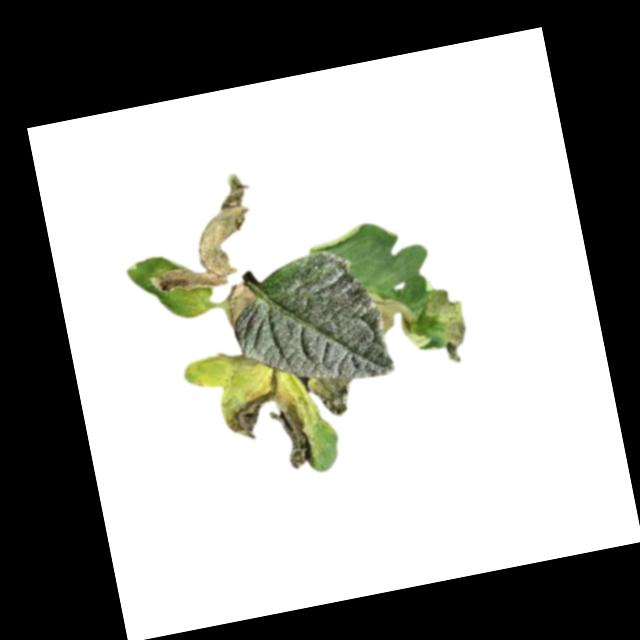Late_blight: (132, 169, 264, 301), (213, 376, 323, 485), (412, 272, 473, 369), (368, 281, 425, 355), (306, 370, 359, 423), (201, 345, 260, 384), (223, 279, 262, 328)
healthy: (222, 241, 396, 402)
